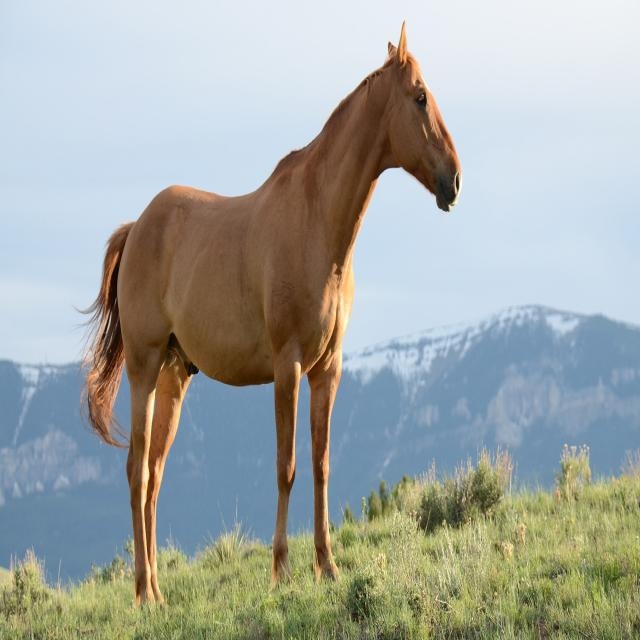animal: (78, 19, 462, 604)
